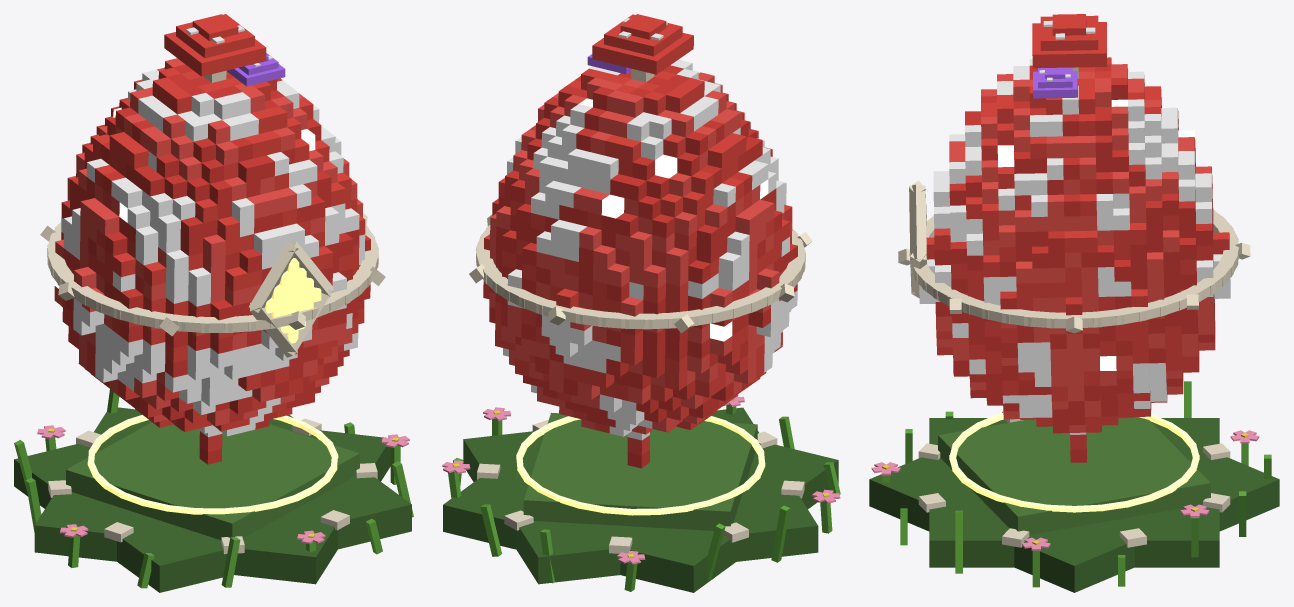
The model's file is egg_raro_hongo.glb.
The picture shows the model from 3 angles, left to right: view 1: azimuth 30°, elevation 25°; view 2: azimuth 150°, elevation 25°; view 3: azimuth 270°, elevation 25°; orthographic projection.
Parts seen in each view (by area): view 1: shell_geo, root_geo, egg_geo, crown_geo, emblem_geo; view 2: shell_geo, root_geo, egg_geo, crown_geo; view 3: shell_geo, root_geo, egg_geo, crown_geo, emblem_geo.
Boxes of the visible parts, left/top/right/bottom form: shell_geo: left=54, top=58, right=370, bottom=464; root_geo: left=14, top=389, right=413, bottom=592; egg_geo: left=40, top=213, right=385, bottom=336; crown_geo: left=164, top=14, right=285, bottom=86; emblem_geo: left=249, top=241, right=333, bottom=357; shell_geo: left=483, top=59, right=797, bottom=468; root_geo: left=442, top=394, right=840, bottom=592; egg_geo: left=469, top=214, right=812, bottom=333; crown_geo: left=587, top=14, right=693, bottom=82; shell_geo: left=919, top=57, right=1230, bottom=462; root_geo: left=869, top=381, right=1279, bottom=592; egg_geo: left=898, top=209, right=1250, bottom=333; crown_geo: left=1032, top=14, right=1106, bottom=98; emblem_geo: left=909, top=180, right=926, bottom=298.
Size of the model in its own units: 5.52 by 7.2 by 5.52.
